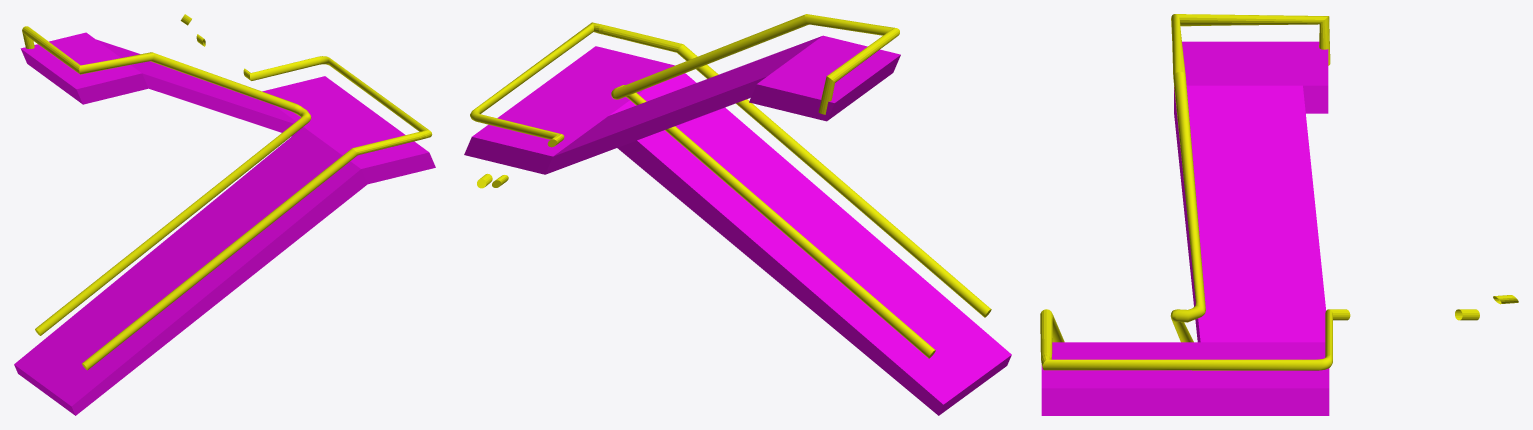
Rendered from escalier.fbx.
The picture shows the model from 3 angles, left to right: view 1: azimuth 30°, elevation 25°; view 2: azimuth 150°, elevation 25°; view 3: azimuth 270°, elevation 25°; orthographic projection. The views are drawn at different scales.
Visible parts, largest first — view 1: pCube10; view 2: pCube10; view 3: pCube10.
Boxes of the visible parts, bbox=[...] form: pCube10: bbox=[14, 14, 435, 415]; pCube10: bbox=[464, 14, 1011, 415]; pCube10: bbox=[1040, 14, 1518, 415].
Size of the model in its own units: 80.63 by 65.2 by 67.15.
